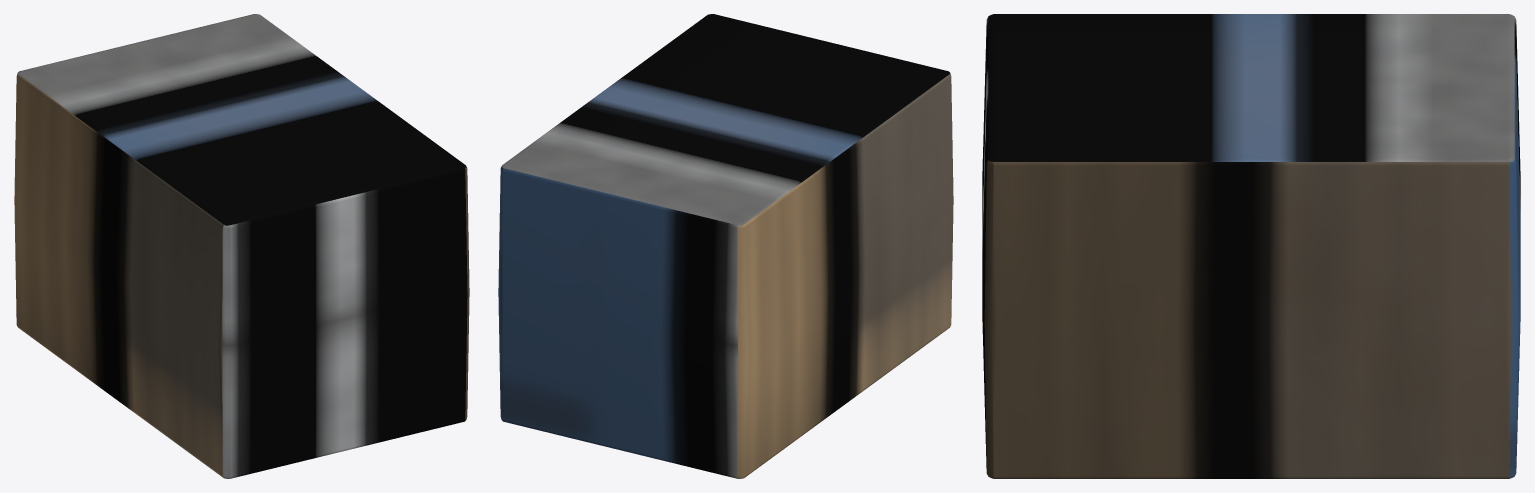
Rendered from CardboardCarton_300x200x200.fbx.
3 views of the same model, side by side, from view 1: azimuth 30°, elevation 25°; view 2: azimuth 150°, elevation 25°; view 3: azimuth 270°, elevation 25° (orthographic). The views are drawn at different scales.
Parts seen in each view (by area): view 1: CardboardCarton_300x200x200_LOD0; view 2: CardboardCarton_300x200x200_LOD0; view 3: CardboardCarton_300x200x200_LOD0.
Part boxes in pixels (box(x1,y1,x2,y2)): CardboardCarton_300x200x200_LOD0: box(14, 14, 469, 478); CardboardCarton_300x200x200_LOD0: box(498, 14, 953, 478); CardboardCarton_300x200x200_LOD0: box(982, 14, 1520, 478).
Size of what is drawn, in the model's own units: 0.205 by 0.2 by 0.305.
